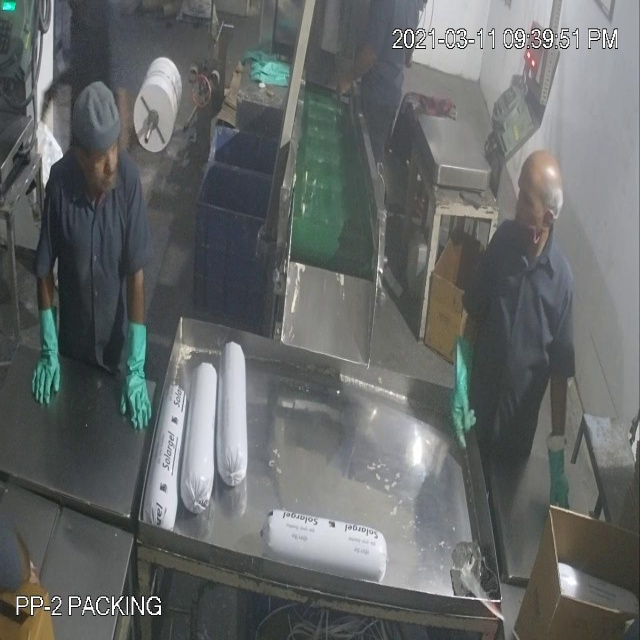Guantes: (442, 324, 488, 462), (19, 305, 75, 416), (110, 314, 161, 430)
Sin_guantes: (328, 40, 384, 94)
